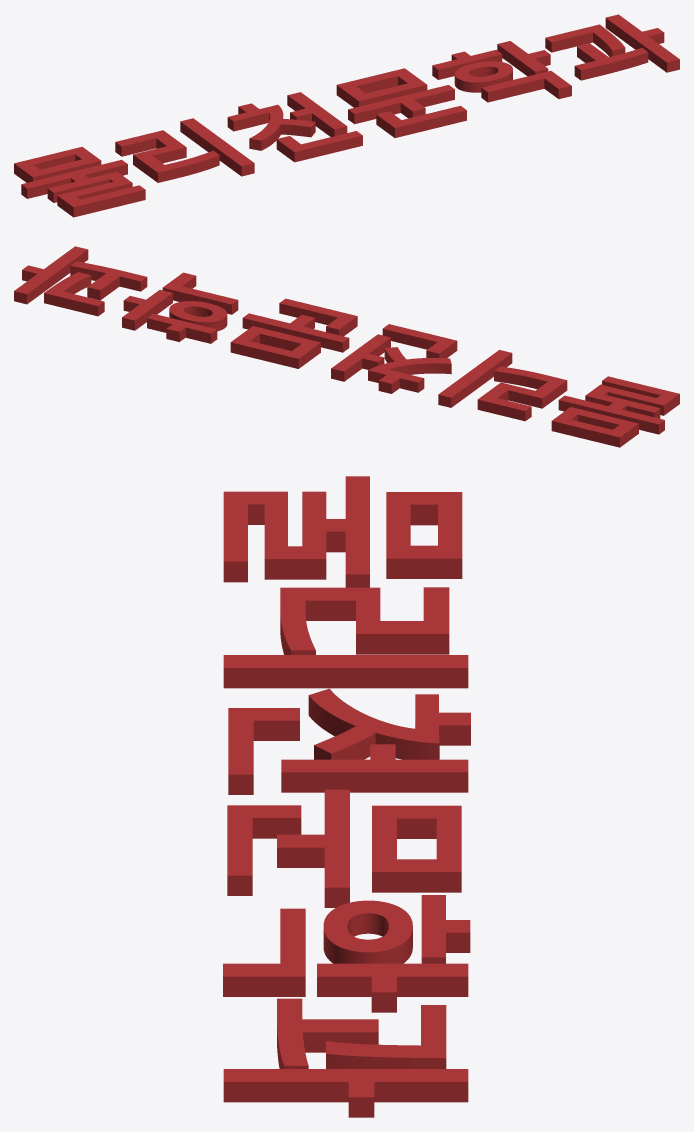
The model's file is true3.fbx.
The picture shows the model from 3 angles, top to bottom: view 1: azimuth 30°, elevation 25°; view 2: azimuth 150°, elevation 25°; view 3: azimuth 270°, elevation 25°; orthographic projection. The views are drawn at different scales.
Parts seen in each view (by area): view 1: Text; view 2: Text; view 3: Text.
Part boxes in pixels (x1=…): Text: x1=14, y1=14, x2=679, y2=217; Text: x1=14, y1=246, x2=679, y2=447; Text: x1=223, y1=476, x2=470, y2=1117.
Bounding box in the file's own units: 458 × 7.02 × 77.27.
